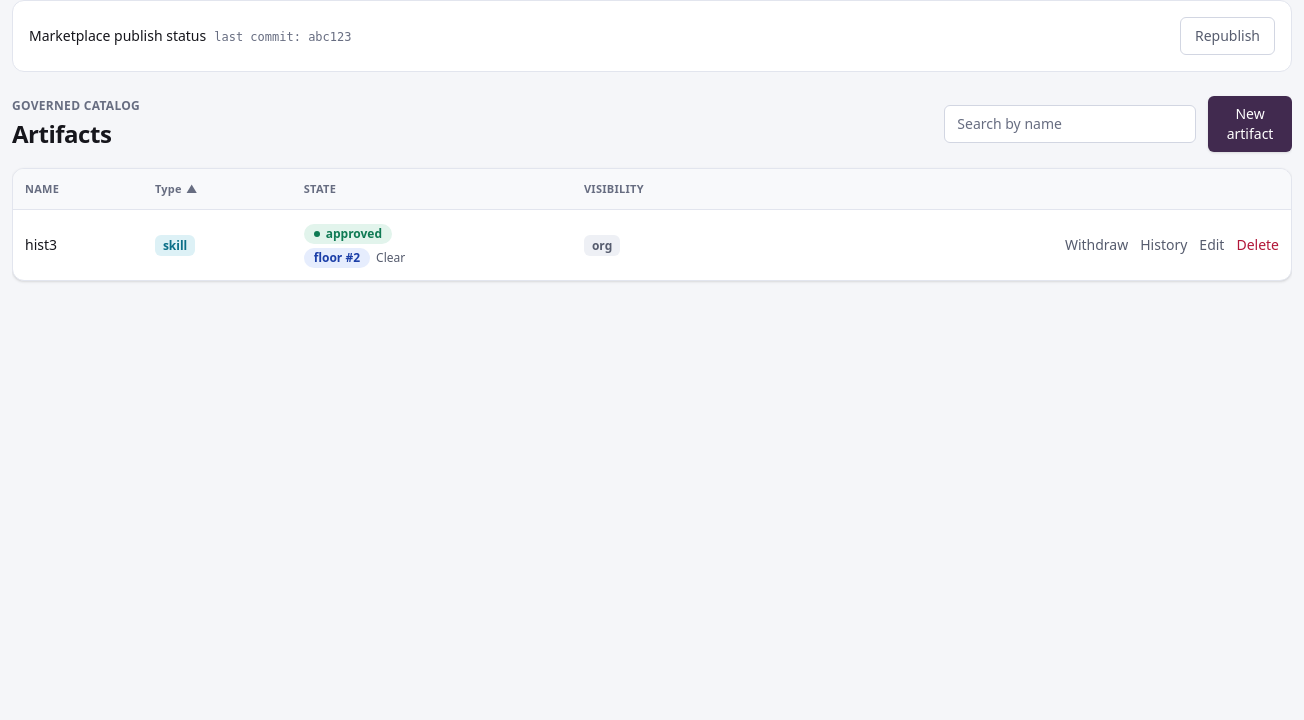
Test: history: the row that IS the floor shows only the marker, with no floor action of its own
Click the button with aria-label "history for": (1164, 245) x1=1140 y1=235 x2=1187 y2=255
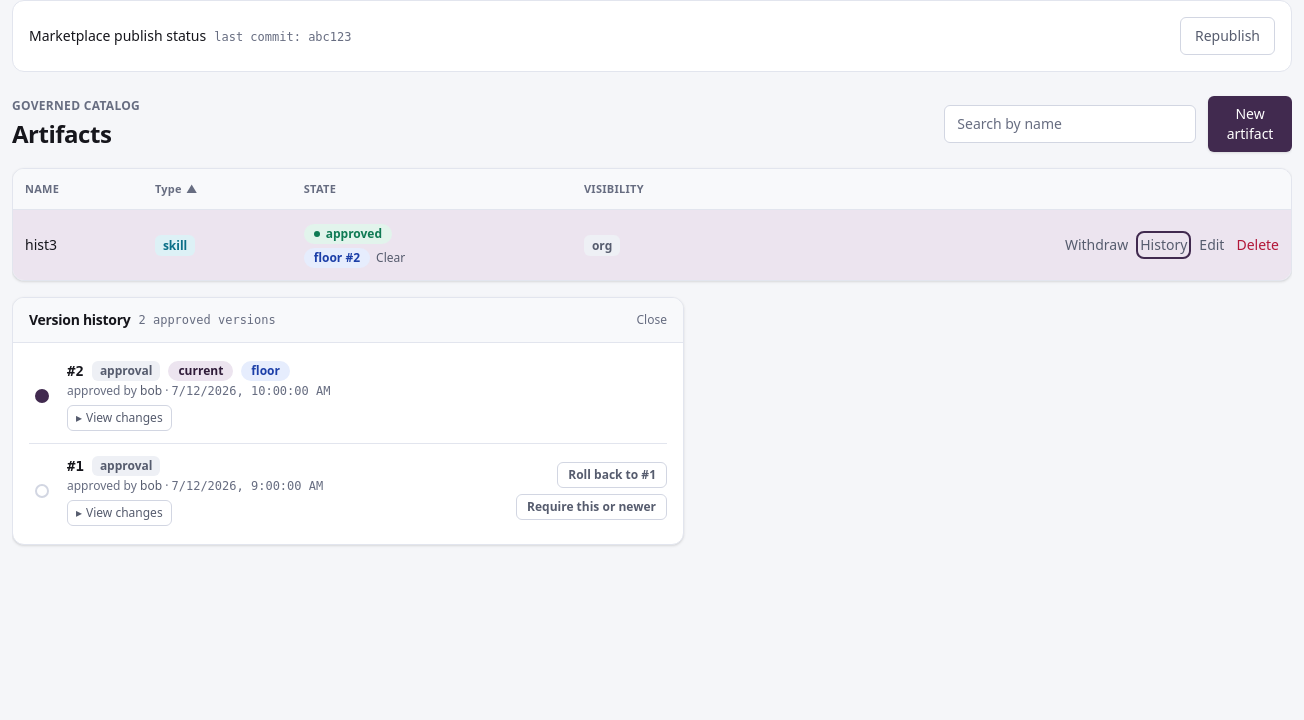
Expected: the text "floor" is shown, x1=241 y1=361 x2=290 y2=381
Expected: the button "Require this or newer" is shown, x1=516 y1=494 x2=667 y2=520
